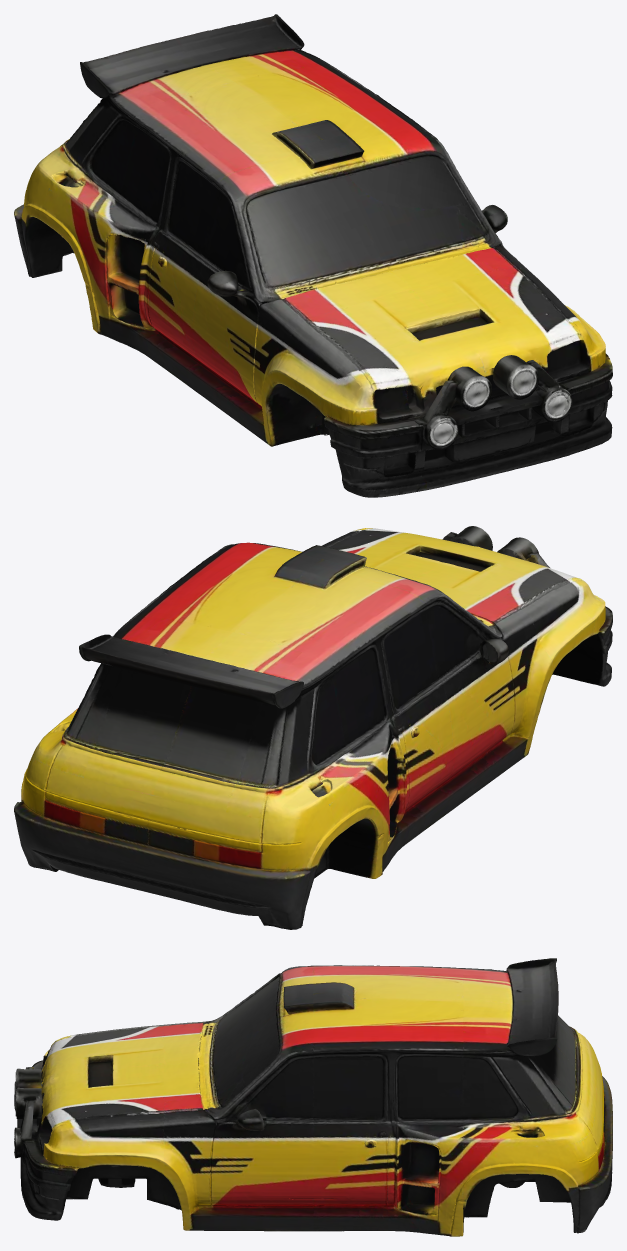
Rendered from car_bantam_turbo.glb.
3 views of the same model, one above another, from view 1: azimuth 30°, elevation 25°; view 2: azimuth 150°, elevation 25°; view 3: azimuth 270°, elevation 25° (orthographic). The views are drawn at different scales.
Parts seen in each view (by area): view 1: tmpjdjobmukobj; view 2: tmpjdjobmukobj; view 3: tmpjdjobmukobj.
Boxes of the visible parts, box(x1,y1,x2,y2) form: tmpjdjobmukobj: box(14, 14, 612, 497); tmpjdjobmukobj: box(14, 526, 612, 929); tmpjdjobmukobj: box(14, 958, 612, 1236).
Bounding box in the file's own units: 0.4845 × 0.3429 × 1.
Materials: 1 (1 with a texture image).
